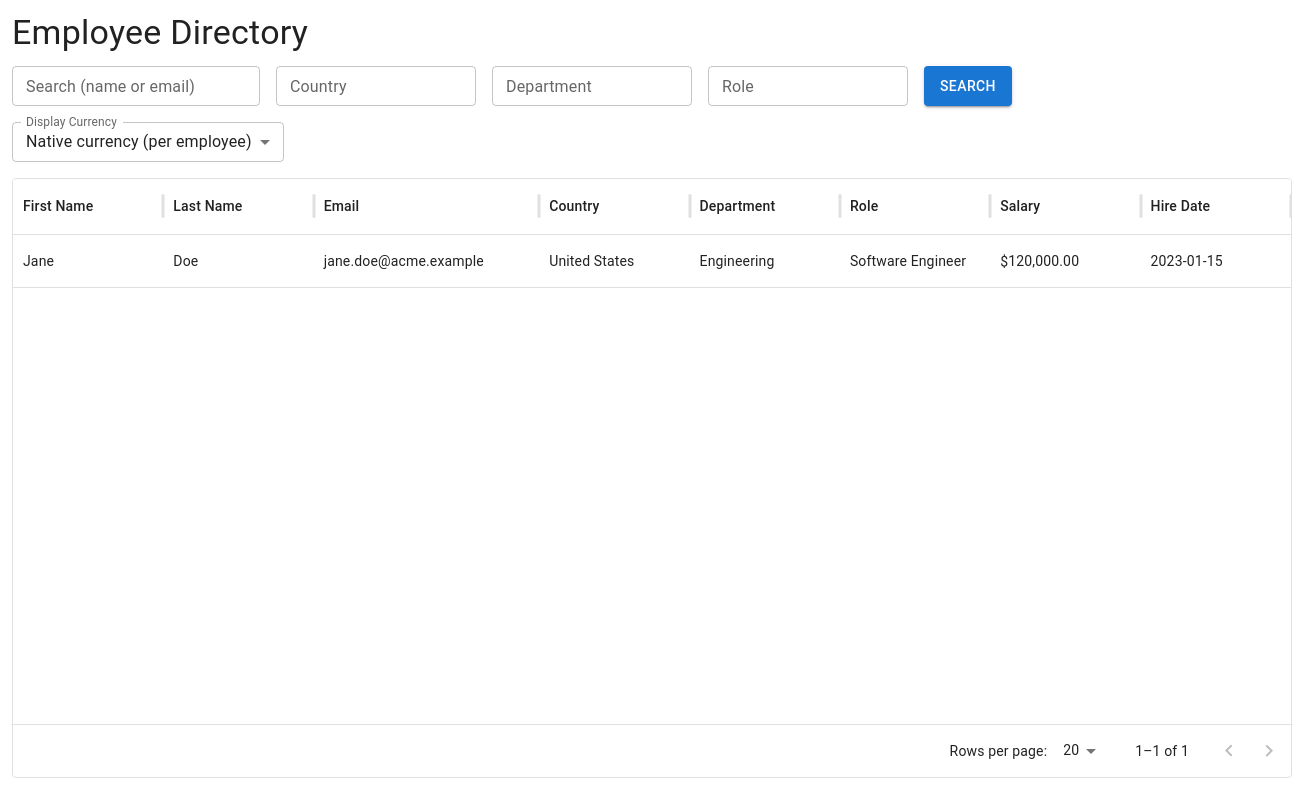
Scenario: EmployeeList › converts the displayed salary when a display currency is chosen
The image size is (1304, 812).
Expected: the text "$120,000.00" is shown, [1000, 253, 1079, 269]
Press the mouse on the dropdown named "Display Currency" at x=139, y=142, box [26, 132, 252, 151]
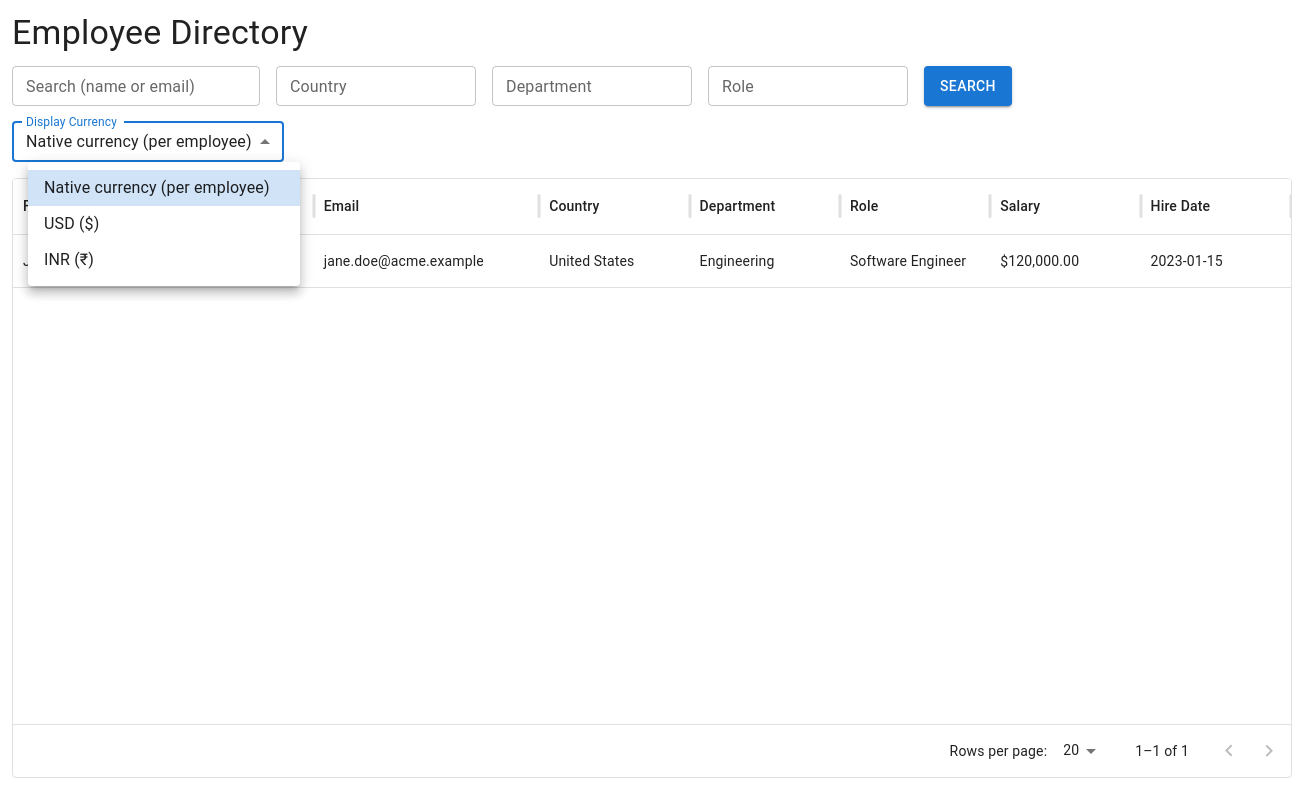
Click the option "INR (₹)".
click(69, 260)  # box [44, 250, 94, 269]
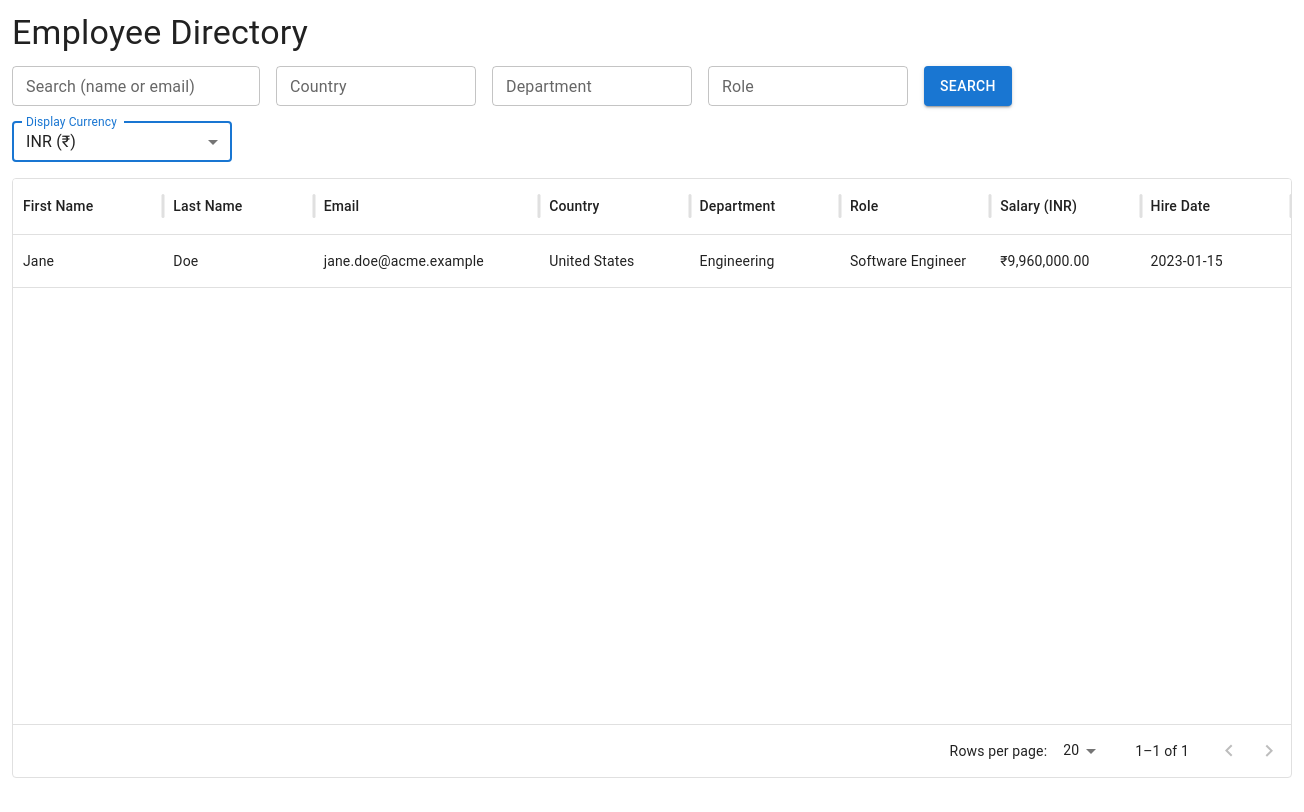
Now the text "₹9,960,000.00" is shown, box [1000, 253, 1089, 269]
Now the column heading "Salary (INR)" is shown, box [990, 179, 1140, 235]
